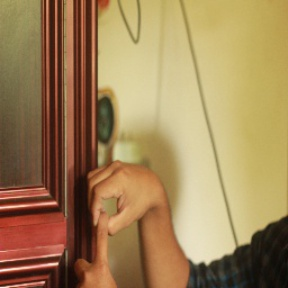Q: (68, 159, 165, 283)
